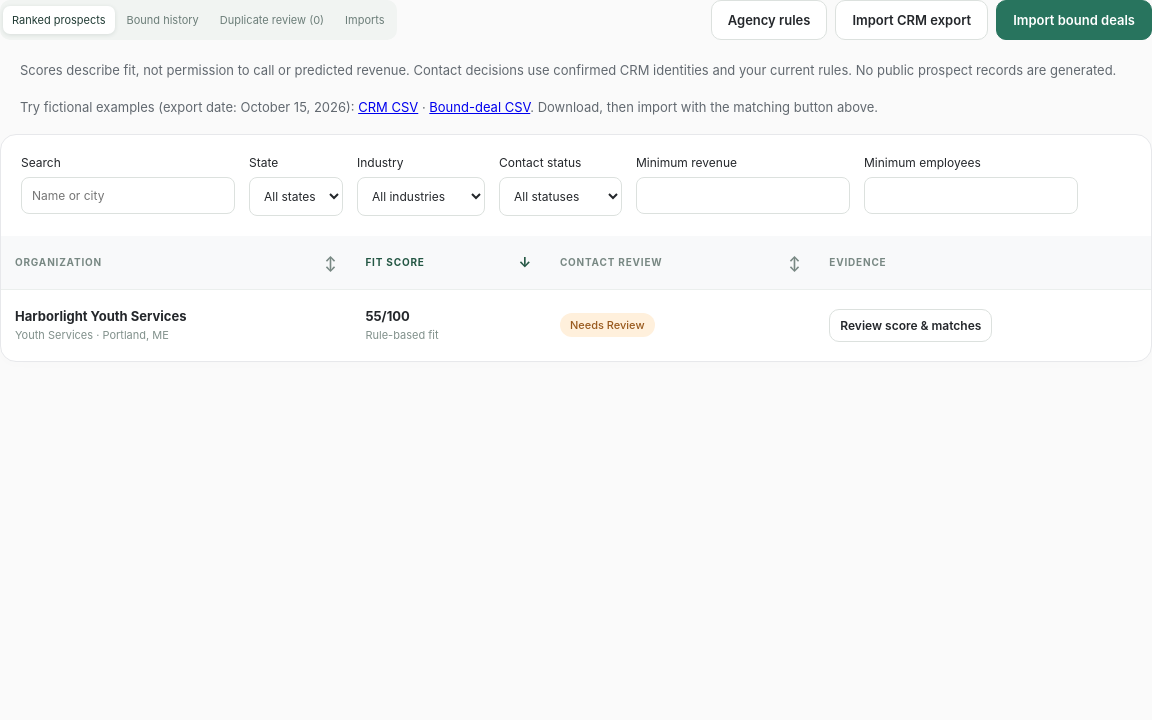
Test case: updates the visible contact decision after reviewed identity confirmation and supports undo
Expected: the text "Needs Review" is shown, [560, 313, 654, 337]
What coordinates should you click on to do the following:
click the button "Review score & matches"
I would click on:
 (911, 325)
Its box is [829, 309, 992, 342].
(page scrolled)
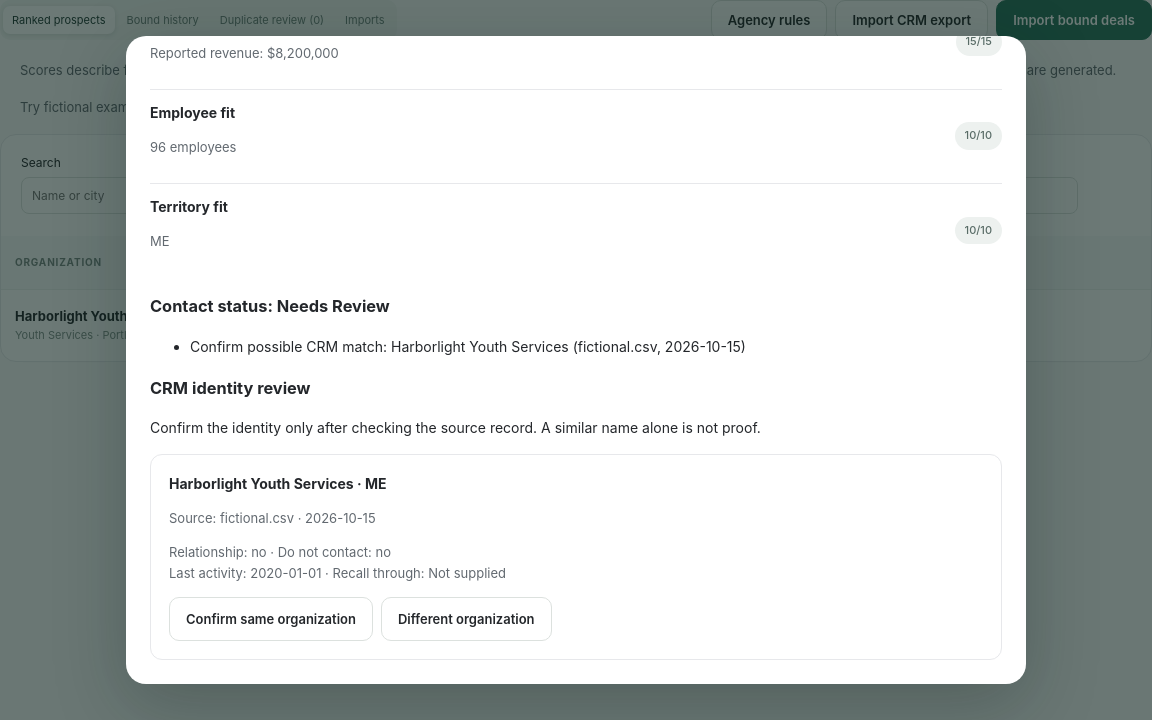
What coordinates should you click on to do the following:
click the button "Confirm same organization"
I would click on:
 (271, 619)
Its box is [169, 596, 373, 641].
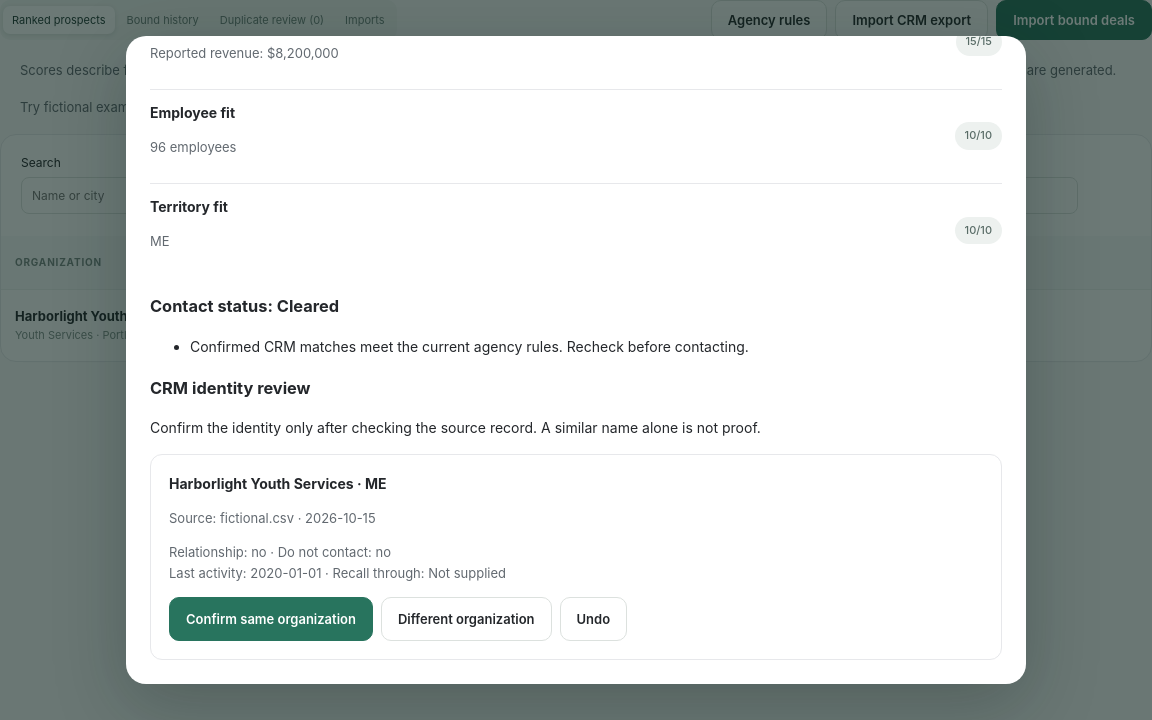
Now the heading "Contact status: Cleared" is shown, box [150, 296, 339, 316]
What coordinates should you click on to do the following:
click the button "Undo"
I would click on:
 (593, 619)
Its box is [560, 596, 627, 641].
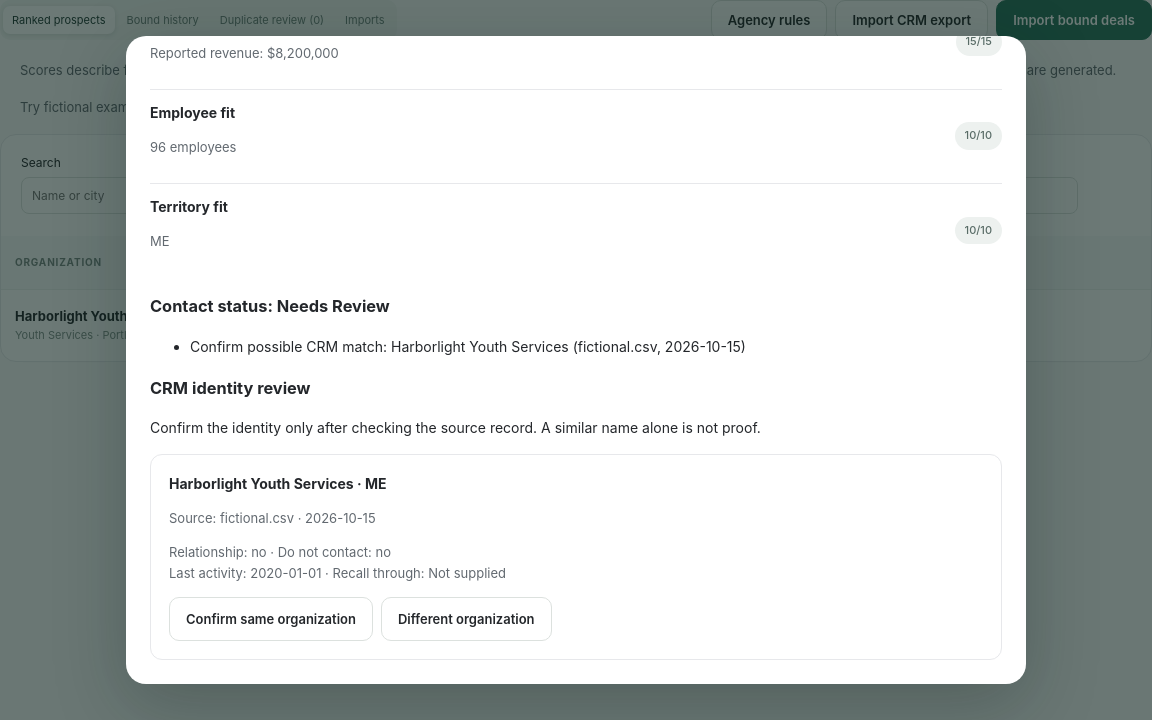
Now the heading "Contact status: Needs Review" is shown, box [150, 296, 390, 316]
